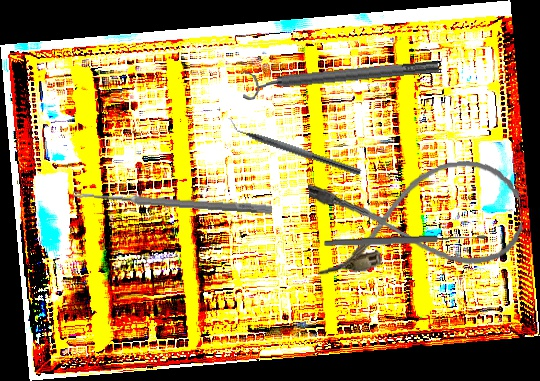Cannula: (307, 155, 526, 281)
Chopper: (224, 116, 365, 176)
Fixation Ring: (240, 51, 441, 102)
Surgical Spoon: (72, 190, 273, 214), (323, 233, 487, 248)
